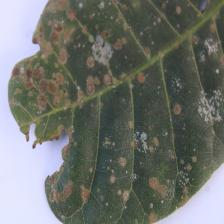red rust: (7, 0, 224, 224)
